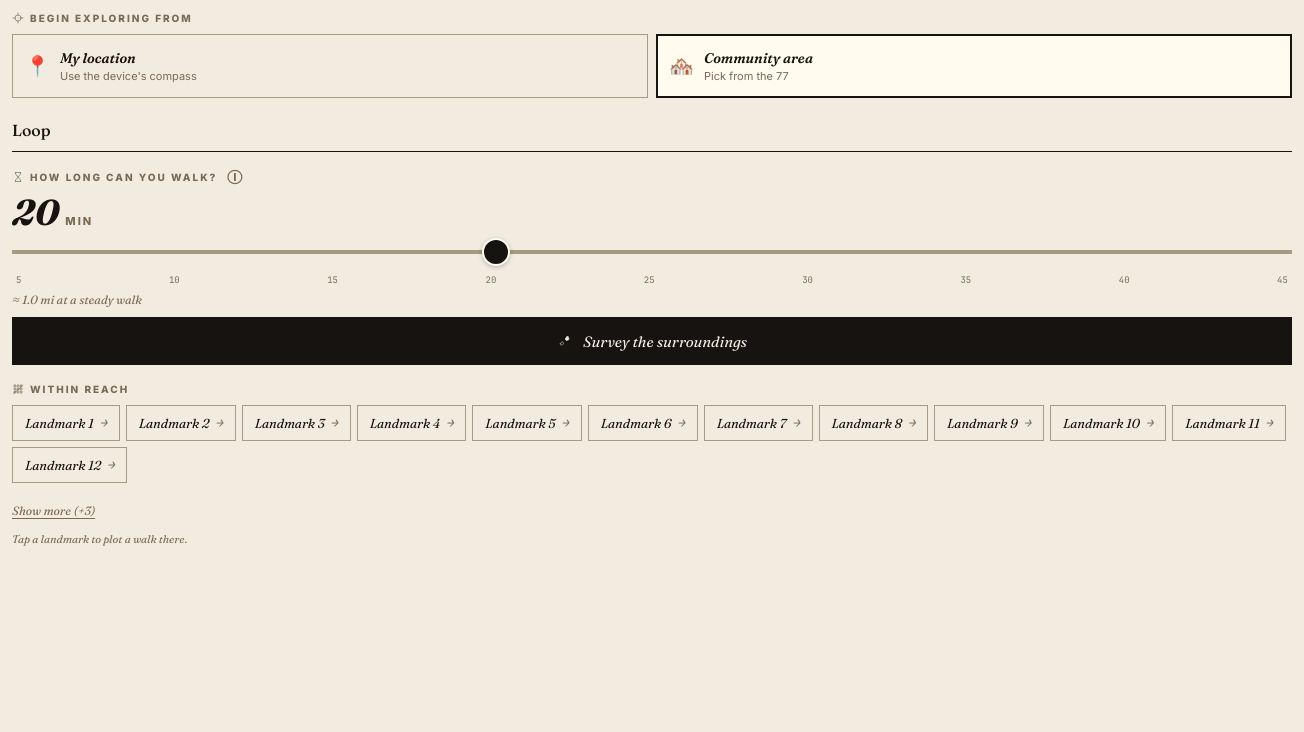
ExploreForm — Within reach chip rail › clicking Show more reveals every chip and switches to Show less
Click the button "Show more (+3)" at coordinates (54, 510), box [12,499,95,522]
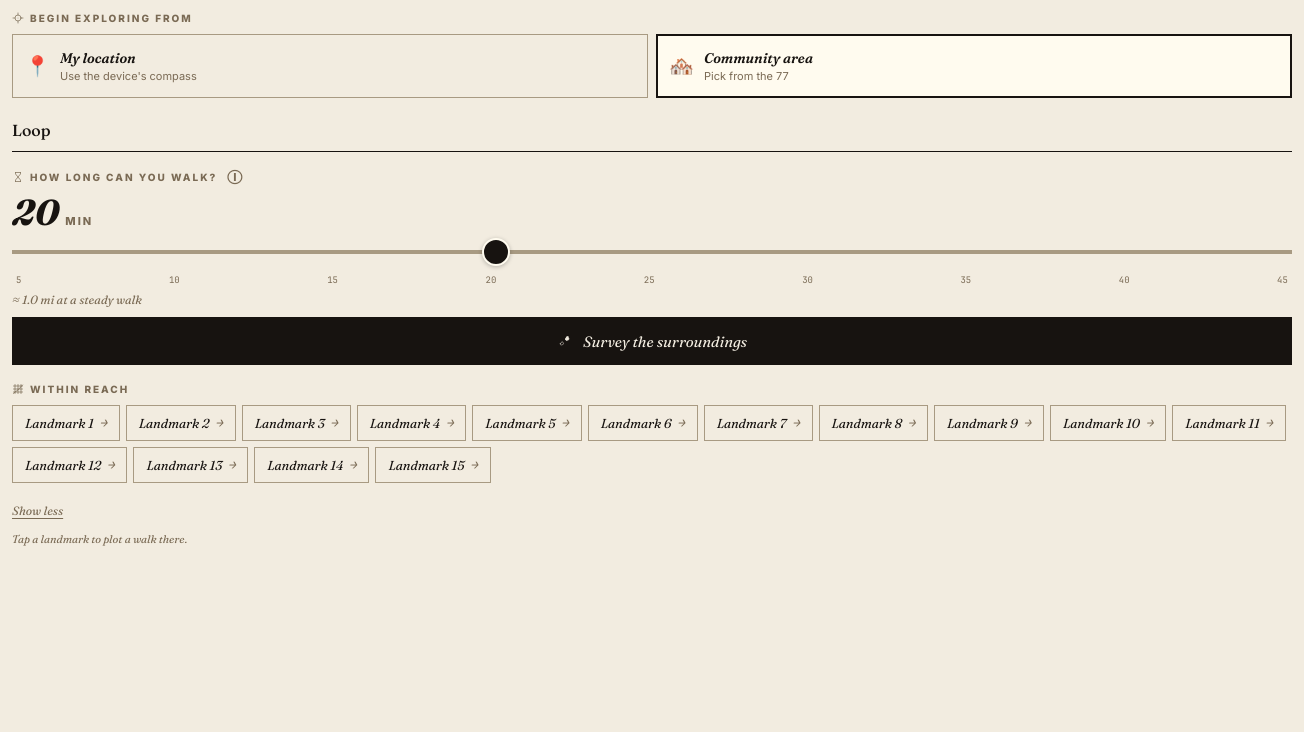
Now the number of buttons "Landmark 1 →" is 15
Now the button "Show less" is shown, box [12,499,63,522]
